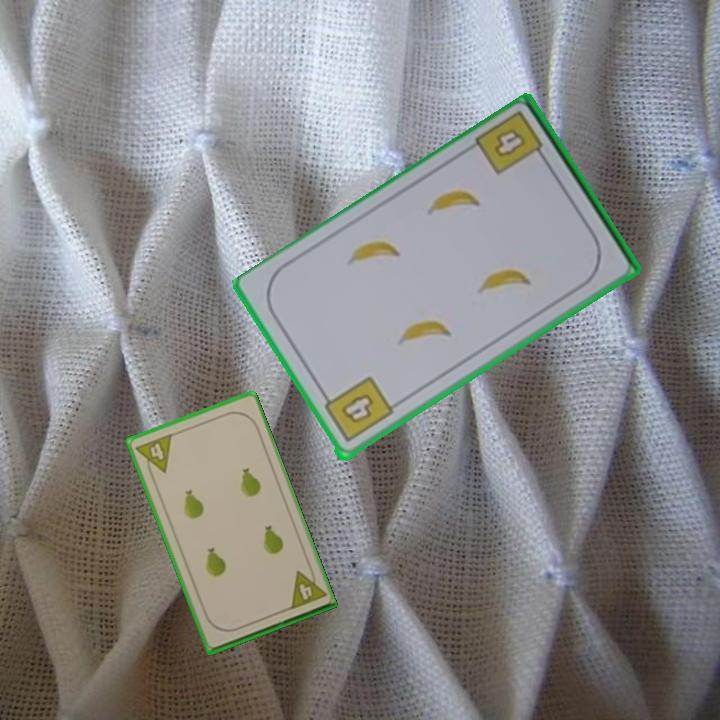4b: (318, 373, 396, 446), (490, 125, 530, 161)
4p: (132, 430, 175, 480), (285, 563, 328, 613)
